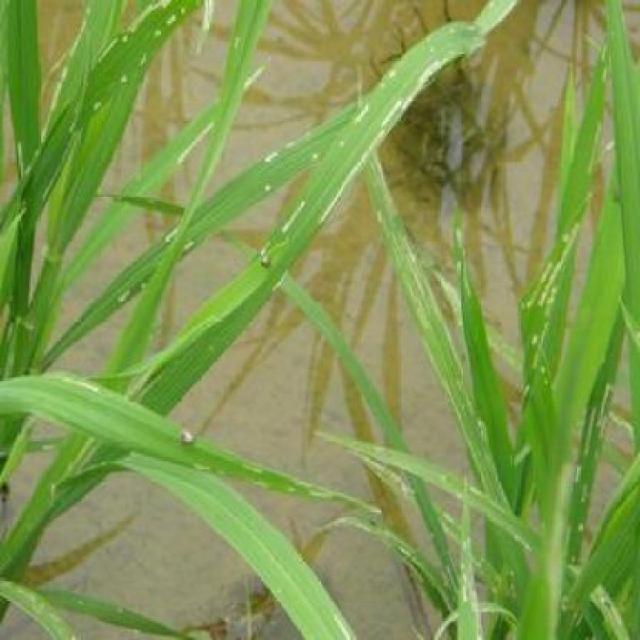rice-bug: (182, 423, 198, 451), (258, 247, 272, 268)
